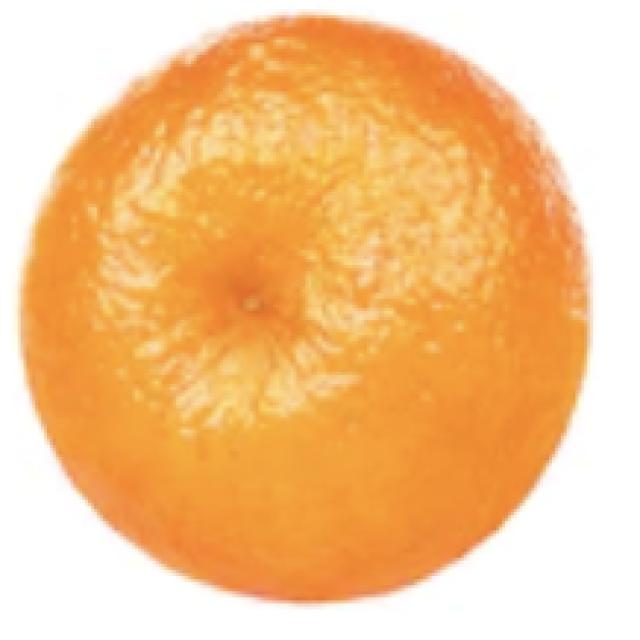orange: (21, 19, 587, 600)
